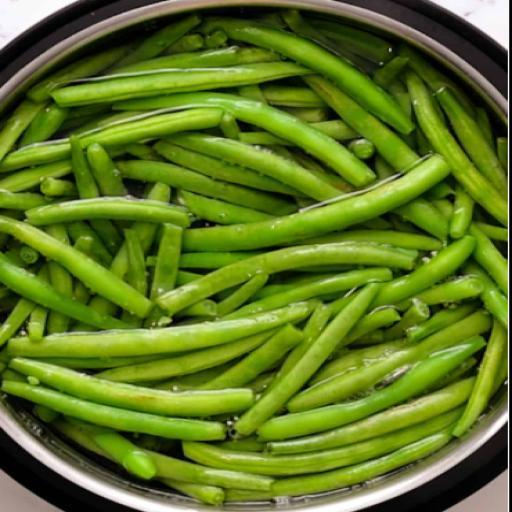buncis_rebus: (5, 0, 512, 487)
